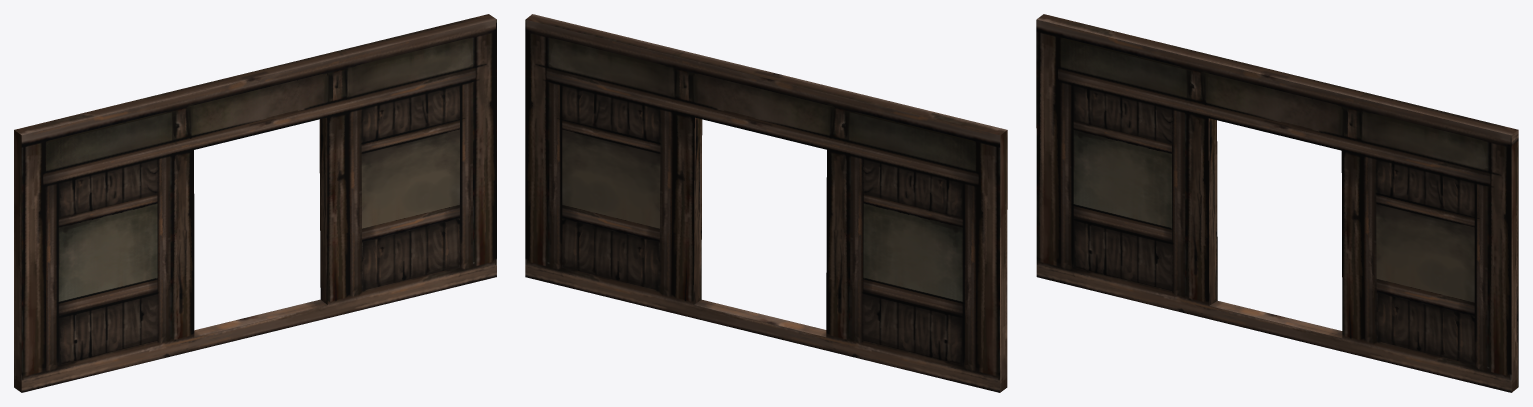
The model's file is STR_WallHouseB01.FBX.
3 renders of one model, left to right at view 1: azimuth 30°, elevation 25°; view 2: azimuth 150°, elevation 25°; view 3: azimuth 330°, elevation 25°, orthographic.
Parts seen in each view (by area): view 1: STR_WallHouseB01; view 2: STR_WallHouseB01; view 3: STR_WallHouseB01.
Boxes of the visible parts, x1,y1,x2,y2 form: STR_WallHouseB01: [14, 14, 496, 392]; STR_WallHouseB01: [525, 14, 1007, 392]; STR_WallHouseB01: [1036, 14, 1518, 392].
Size of the model in its own units: 666 by 345 by 18.38.
